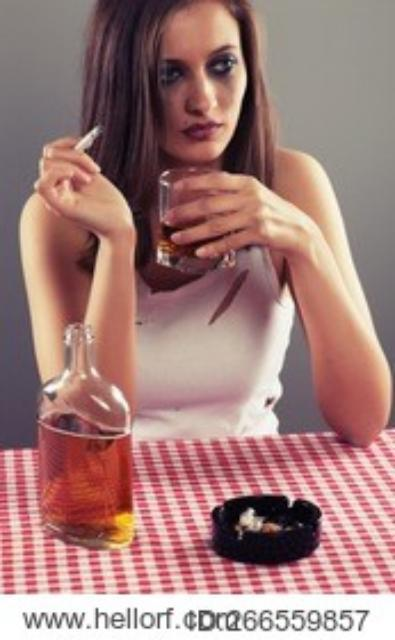SafeDriving: (204, 44, 242, 82), (156, 56, 192, 88)
Smoking: (61, 120, 105, 166)
